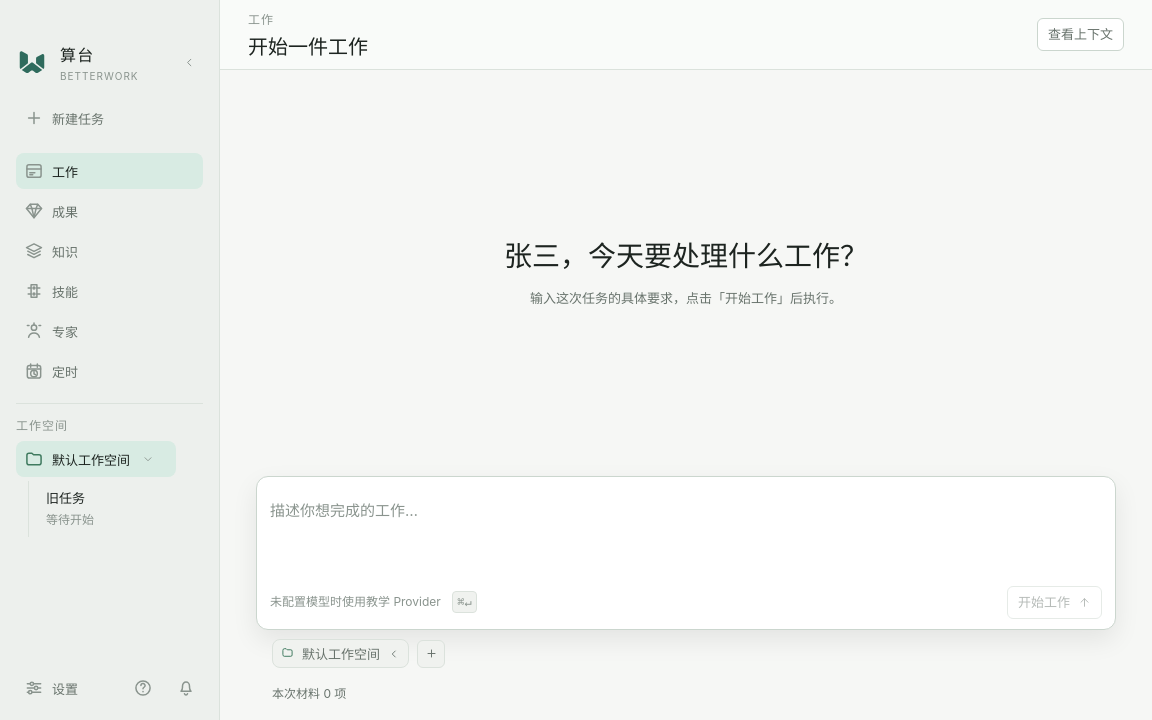
Test: Skill test run in the task composer › 同一 Task 开始续作后，未完成的历史读取仍能补齐旧 Run
This screenshot has width=1152, height=720.
Click the button "旧任务 等待开始": (120, 509) x1=37 y1=481 x2=203 y2=537
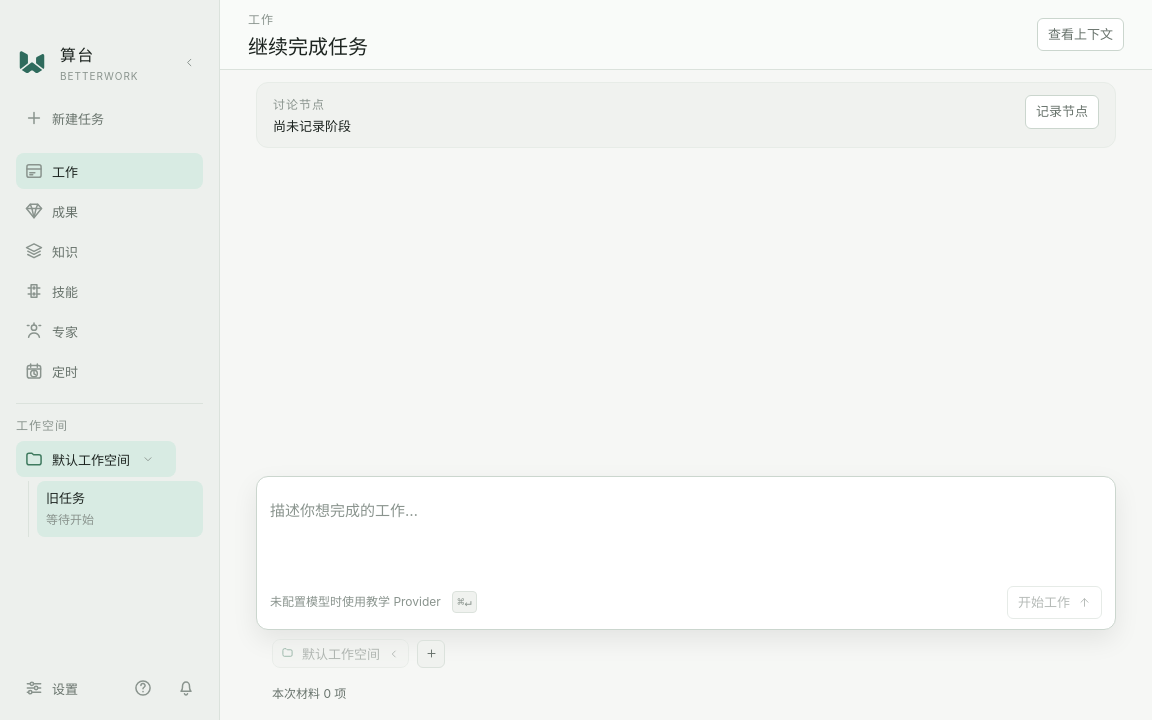
In the text box named "任务输入": (686, 534) x1=270 y1=488 x2=1102 y2=582, type "继续完成下一期分析"
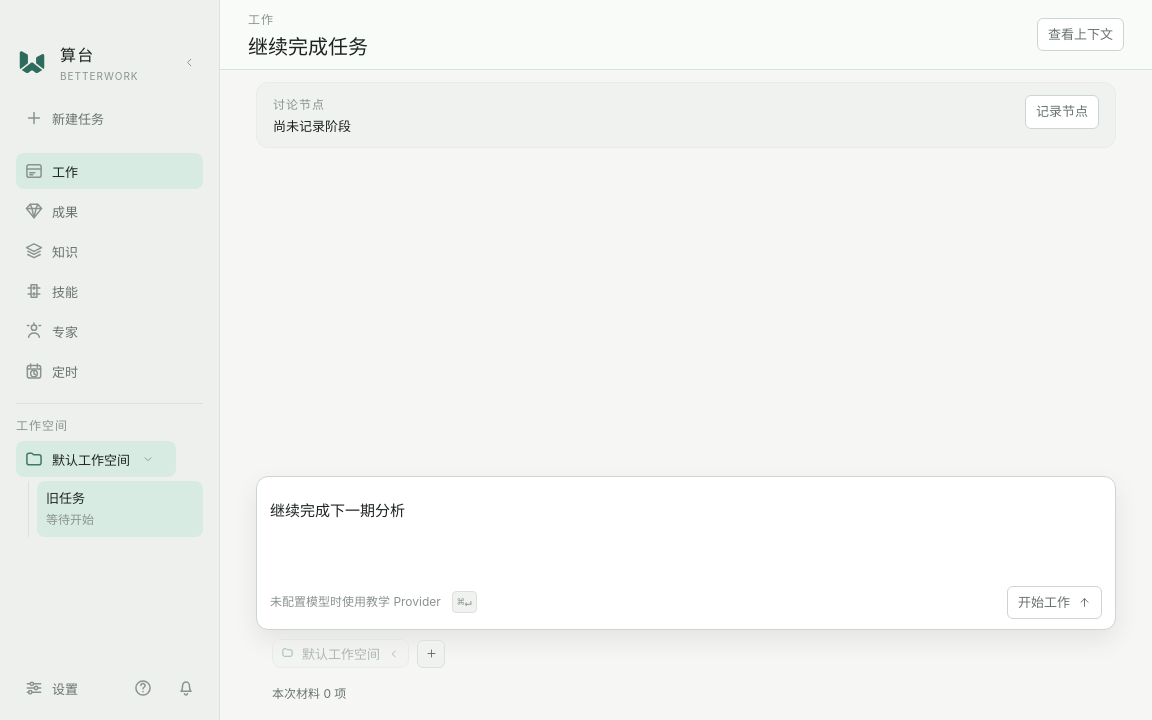
Click the button "开始工作": (1054, 602) x1=1007 y1=586 x2=1102 y2=619
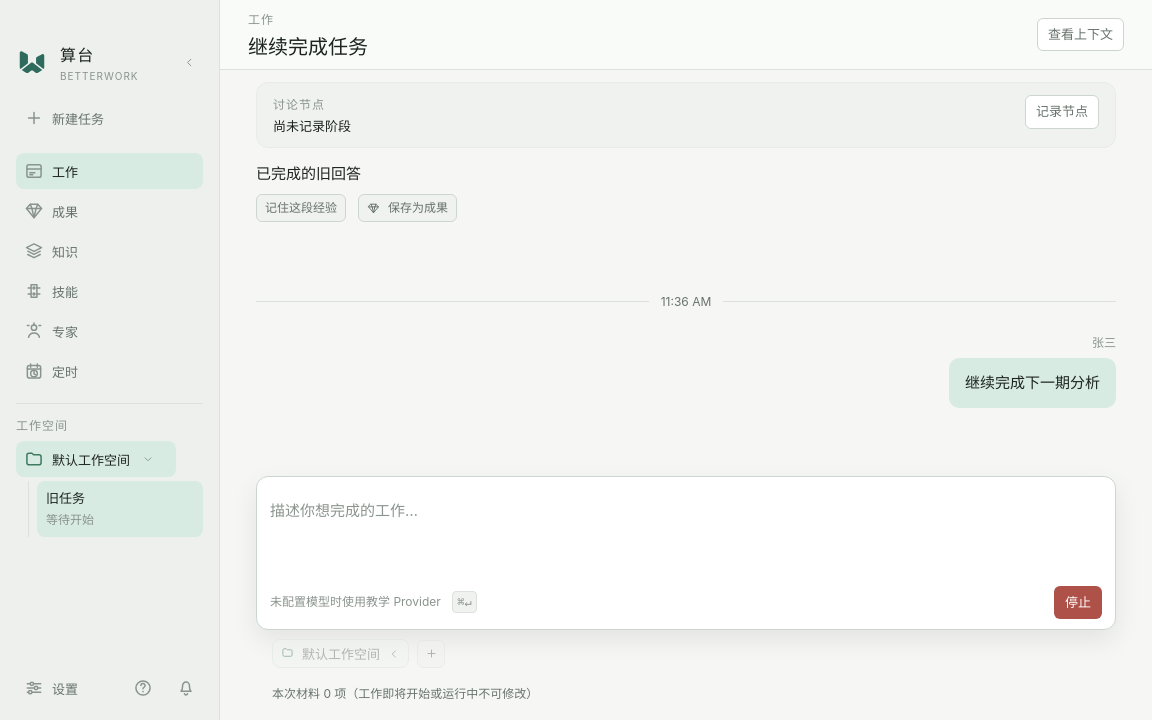
Result: the text "已完成的旧回答" is shown at x1=256 y1=164 x2=361 y2=182
Result: the text "继续完成下一期分析" is shown at x1=949 y1=358 x2=1116 y2=408
